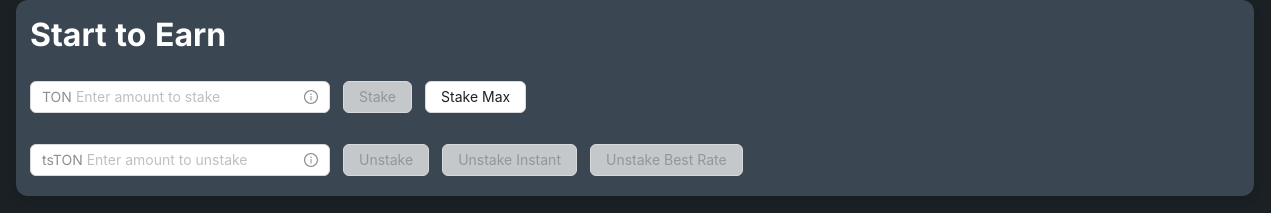
Scenario: TonstackersManageUI › displays insufficient staked balance message for unstaking when unstake amount exceeds tsTonStacked
Type "60" into the number field with placeholder "Enter amount to unstake" at (193, 160), box [87,149,300,171]
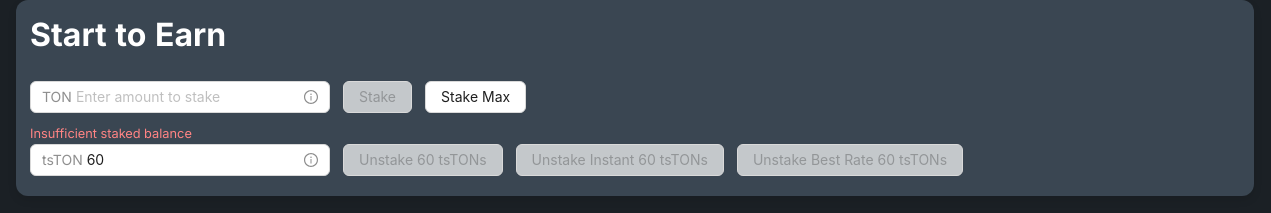
Check: the button "Unstake 60 tsTONs" is disabled, box [343,144,503,176]
Check: the text "Insufficient staked balance" is shown, box [30,124,192,143]
